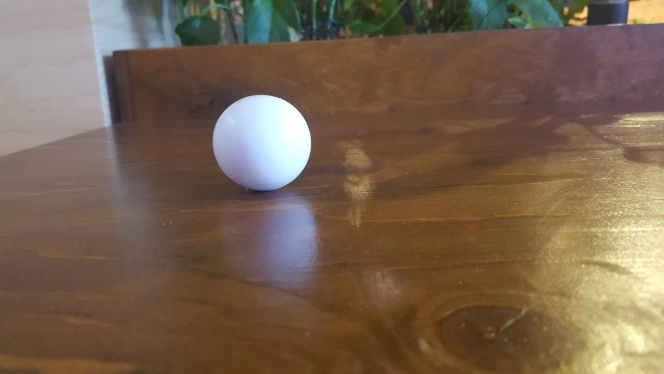egg: (213, 93, 314, 193)
